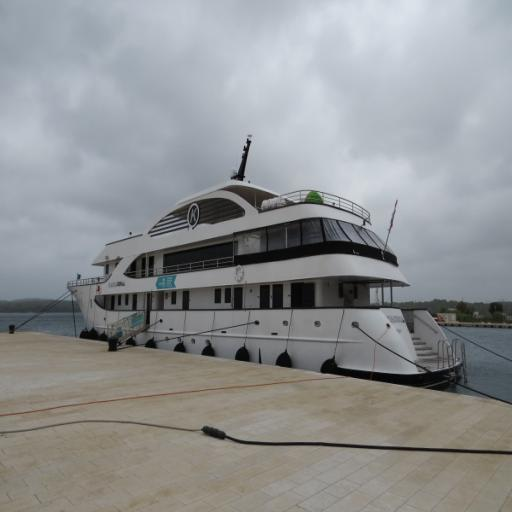cruises: (67, 141, 467, 393)
